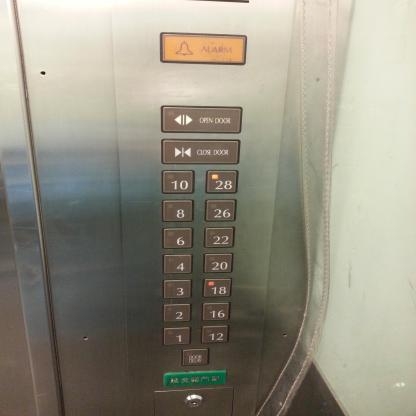1: (161, 326, 193, 346)
10: (161, 168, 196, 195)
12: (200, 324, 230, 344)
16: (201, 301, 231, 322)
18: (201, 276, 233, 299)
2: (162, 302, 192, 323)
20: (203, 251, 234, 274)
22: (203, 225, 236, 249)
26: (204, 198, 238, 223)
28: (204, 168, 239, 194)
3: (162, 278, 193, 300)
4: (161, 252, 194, 276)
6: (160, 226, 195, 250)
8: (160, 198, 196, 223)
alarm: (158, 31, 248, 68)
close: (159, 137, 241, 166)
keyhole: (184, 393, 204, 409)
open: (159, 104, 243, 135)
text_doordelay: (180, 347, 211, 367)
